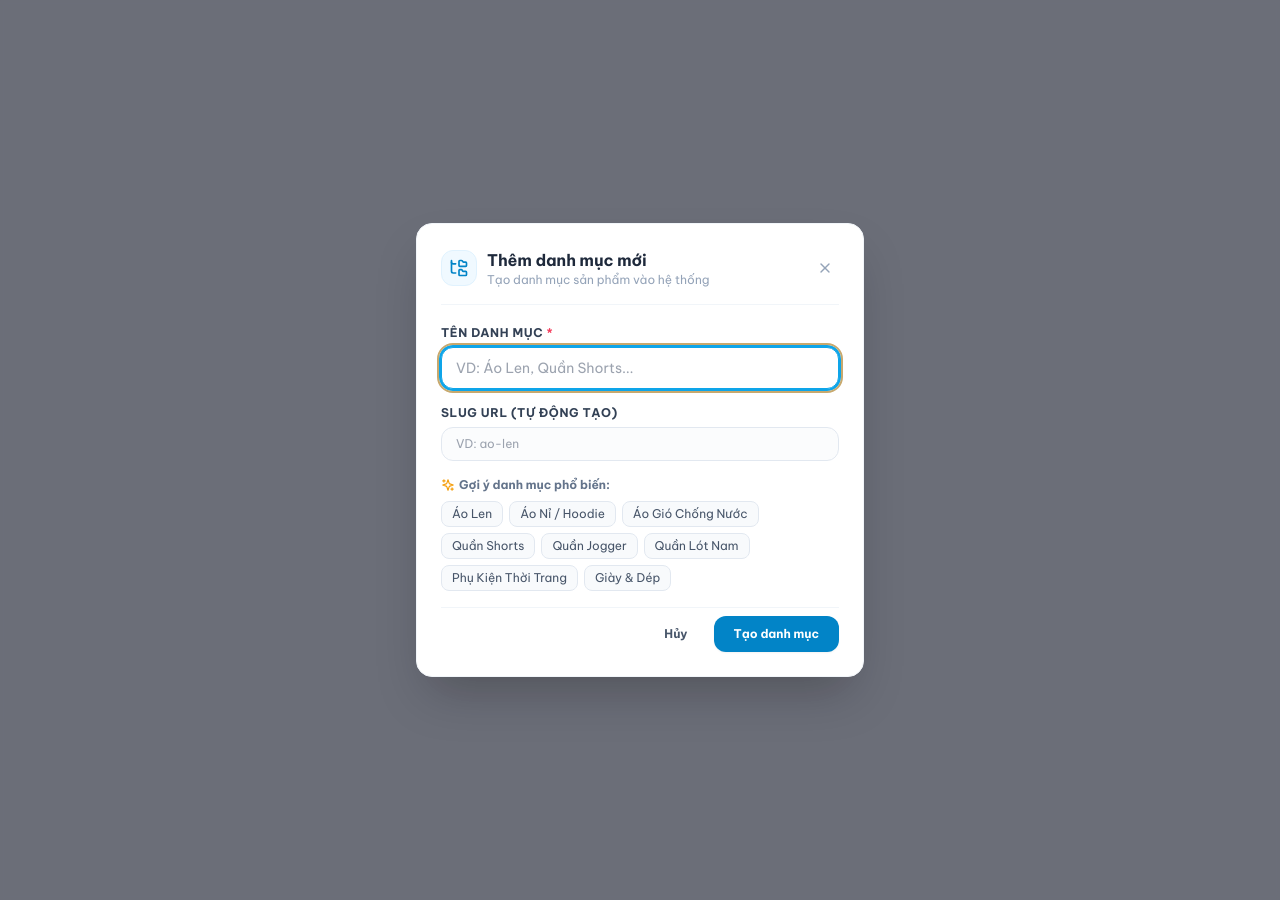
QuickAddCategoryModal Component › Bấm chọn gợi ý danh mục phổ biến tự động điền tên và tạo slug
Click the button "Áo Len". click: (472, 514)
box: [441,501,503,527]
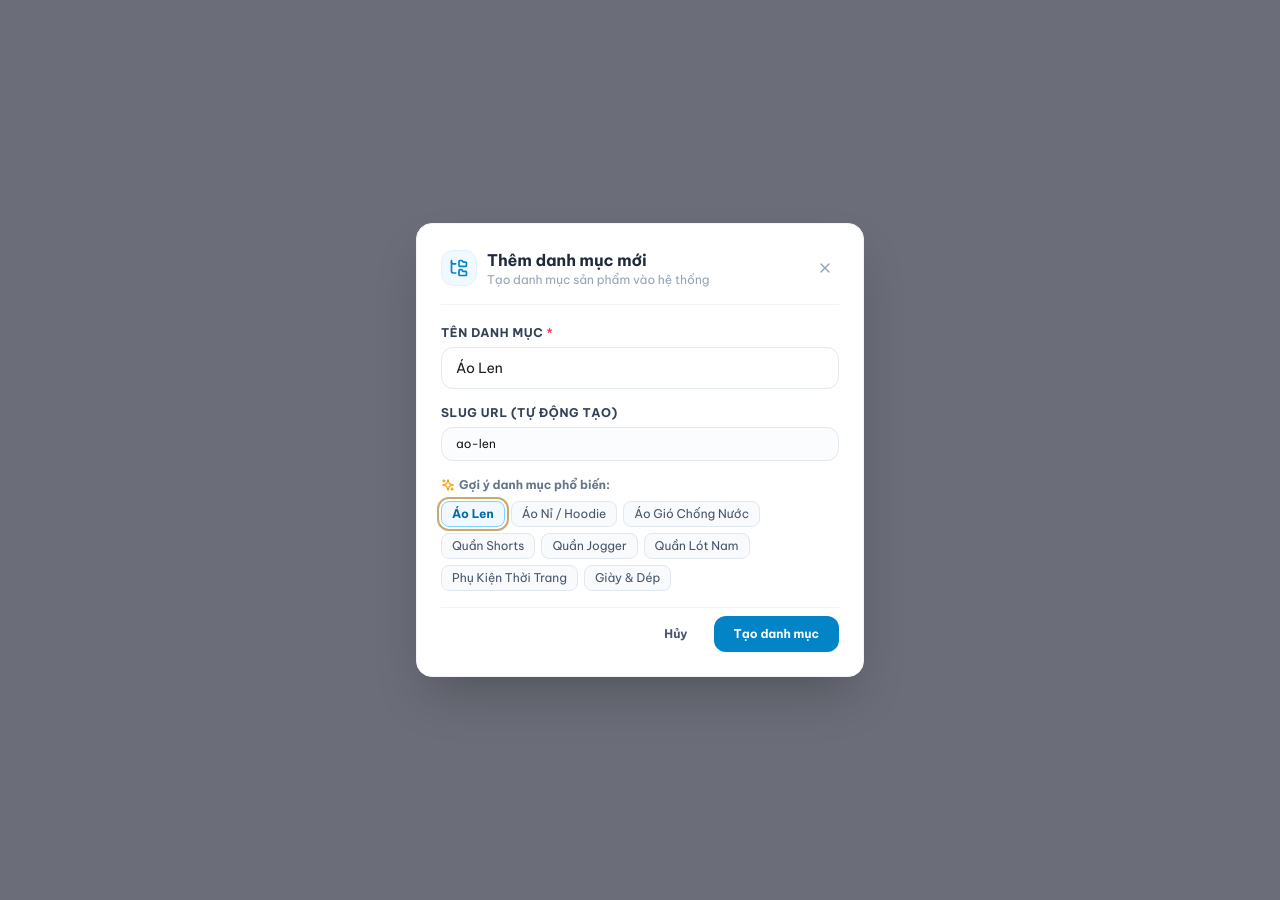
expect the field with placeholder "VD: Áo Len, Quần Shorts..." below "Tên danh mục" holds "Áo Len": met, box [441,347,839,389]
expect the field with placeholder "VD: ao-len" below "Slug URL (Tự động tạo)" holds "ao-len": met, box [441,427,839,461]
